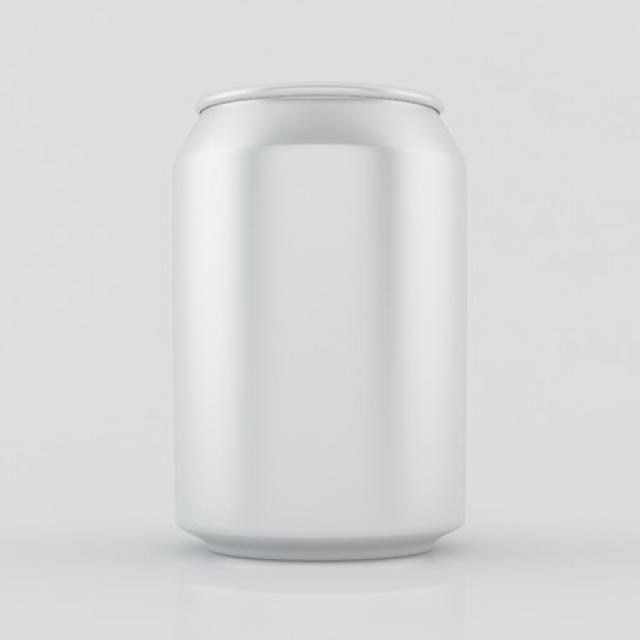can: (158, 73, 502, 582)
